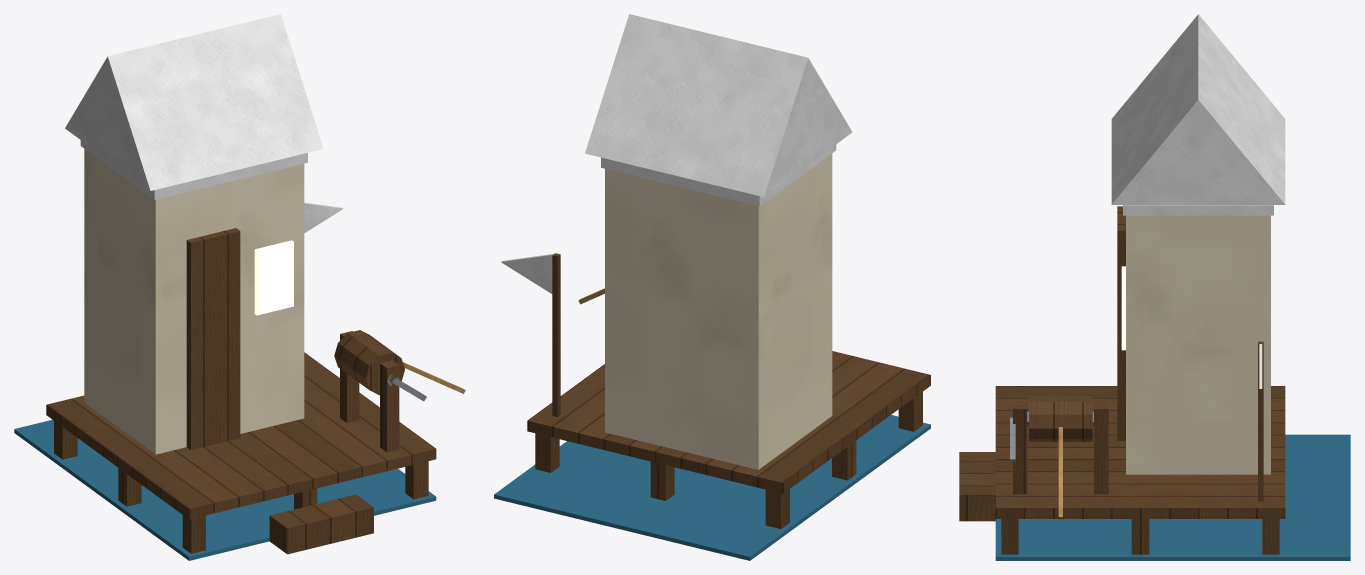
The model's file is protocol.across.glb.
3 renders of one model, left to right at view 1: azimuth 30°, elevation 25°; view 2: azimuth 150°, elevation 25°; view 3: azimuth 270°, elevation 25°, orthographic. The views are drawn at different scales.
Visible parts, largest first — view 1: building.protocol.across; view 2: building.protocol.across; view 3: building.protocol.across.
Boxes of the visible parts, x1,y1,x2,y2 form: building.protocol.across: (14,14,465,560); building.protocol.across: (494,14,930,560); building.protocol.across: (959,14,1350,560).
Size of the model in its own units: 2.49 by 3.3 by 2.7.
Materials: 8 (6 with a texture image).
